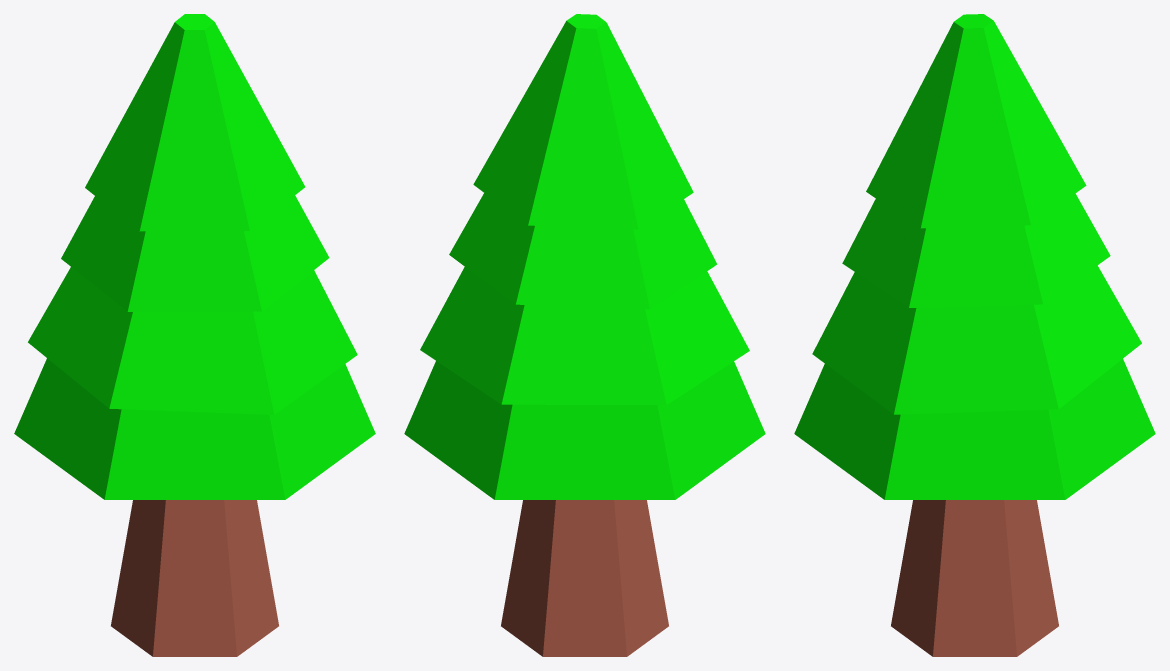
The model's file is tree_2c.fbx.
The picture shows the model from 3 angles, left to right: view 1: azimuth 30°, elevation 25°; view 2: azimuth 150°, elevation 25°; view 3: azimuth 270°, elevation 25°; orthographic projection.
Parts seen in each view (by area): view 1: tree_2c; view 2: tree_2c; view 3: tree_2c.
Part boxes in pixels (bbox=[...]): tree_2c: bbox=[14, 14, 375, 656]; tree_2c: bbox=[404, 14, 765, 656]; tree_2c: bbox=[794, 14, 1155, 656].
Bounding box in the file's own units: 274 × 584 × 316.
